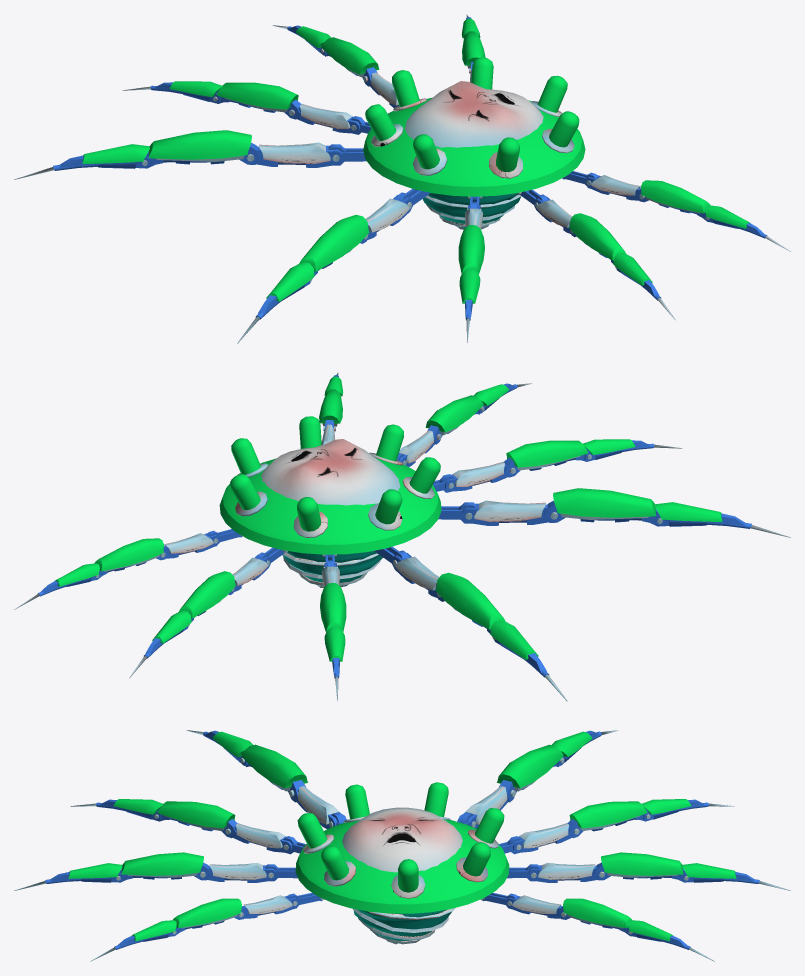
File: robobo z twarzą.fbx
The picture shows the model from 3 angles, top to bottom: view 1: azimuth 30°, elevation 25°; view 2: azimuth 150°, elevation 25°; view 3: azimuth 270°, elevation 25°; orthographic projection. The views are drawn at different scales.
Visible parts, largest first — view 1: Legs, Body, Drill; view 2: Legs, Body, Drill; view 3: Legs, Body, Drill.
Boxes of the visible parts, box(x1,y1,x2,y2) form: Legs: box(14, 14, 790, 343); Body: box(363, 57, 585, 196); Drill: box(423, 193, 521, 229); Legs: box(14, 372, 790, 701); Body: box(219, 416, 441, 554); Drill: box(282, 551, 383, 587); Legs: box(14, 730, 790, 961); Body: box(295, 782, 509, 913); Drill: box(353, 908, 455, 944).
Size of the model in its own units: 201 by 48.92 by 279.
5 materials, 2 textured.
